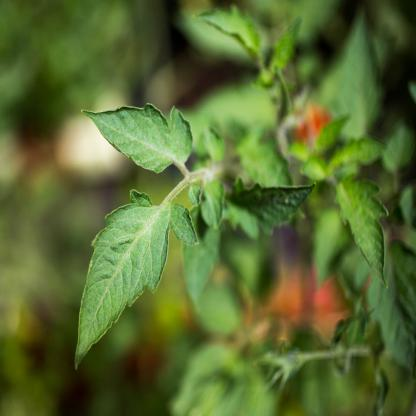Tomato leaf: (59, 191, 181, 383), (66, 95, 206, 174)
